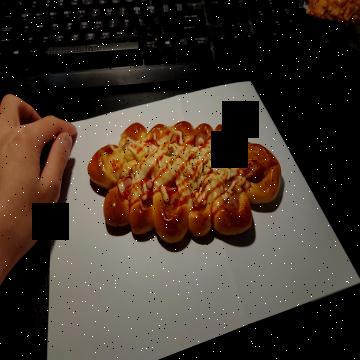pizza_bread: (87, 121, 280, 245)
